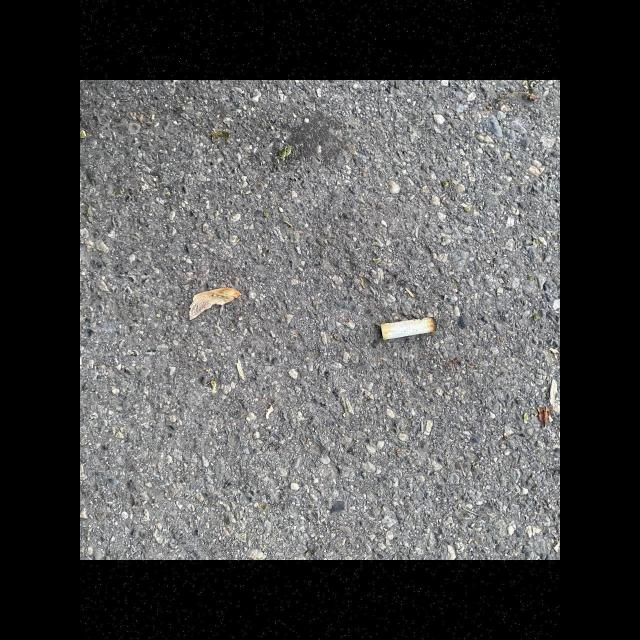cigarette: (380, 317, 437, 340)
